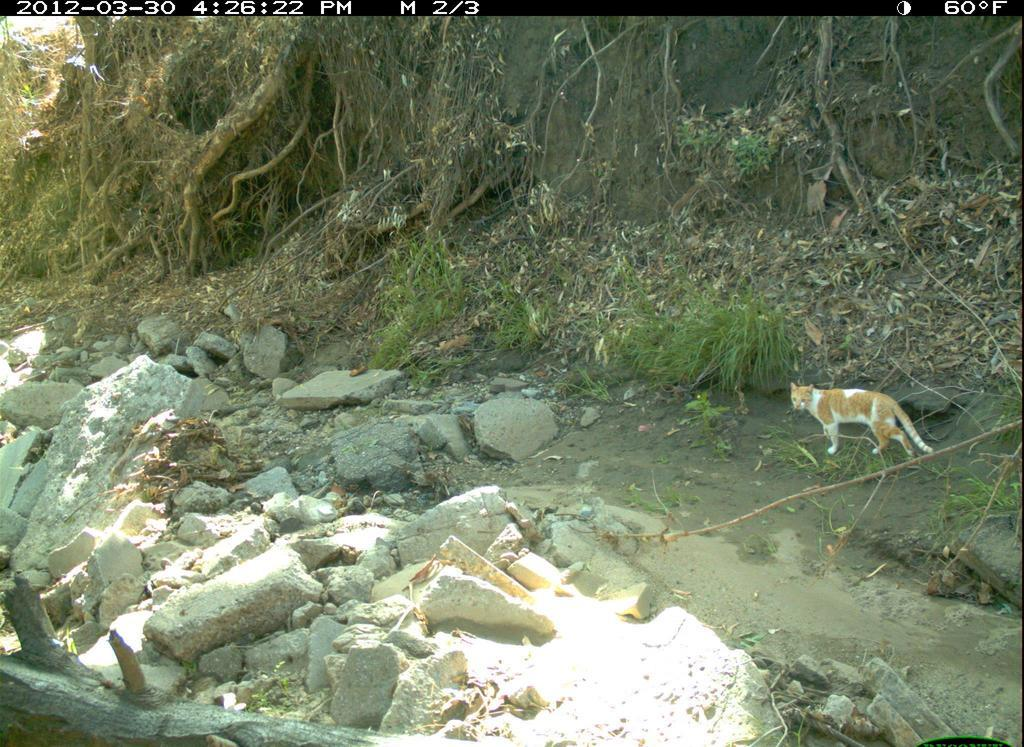cat: (783, 376, 939, 468)
